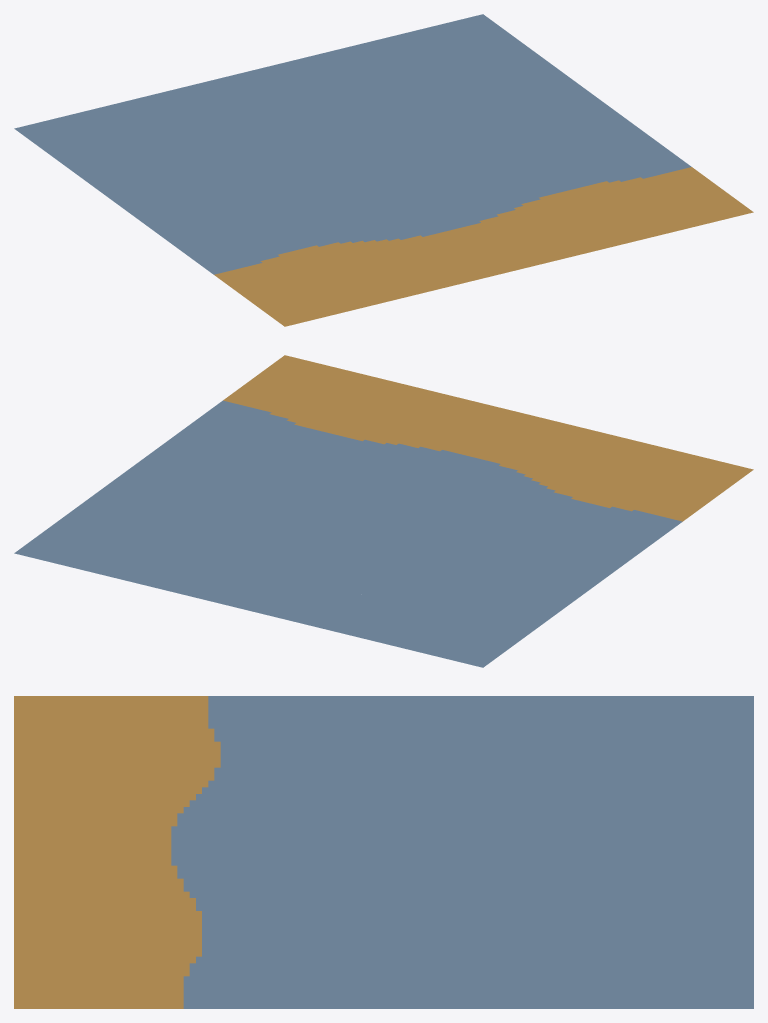
The picture shows the model from 3 angles, top to bottom: view 1: azimuth 30°, elevation 25°; view 2: azimuth 150°, elevation 25°; view 3: azimuth 270°, elevation 25°; orthographic projection. The views are drawn at different scales.
Visible parts, largest first — view 1: rock, cover; view 2: rock, cover; view 3: rock, cover.
Part boxes in pixels (x1,y1,x2,y2): rock: (14, 14, 691, 274); cover: (214, 167, 753, 326); rock: (14, 400, 682, 667); cover: (223, 355, 753, 521); rock: (171, 696, 753, 1008); cover: (14, 696, 220, 1008).
Size of the model in its own units: 12 by 0 by 12.
